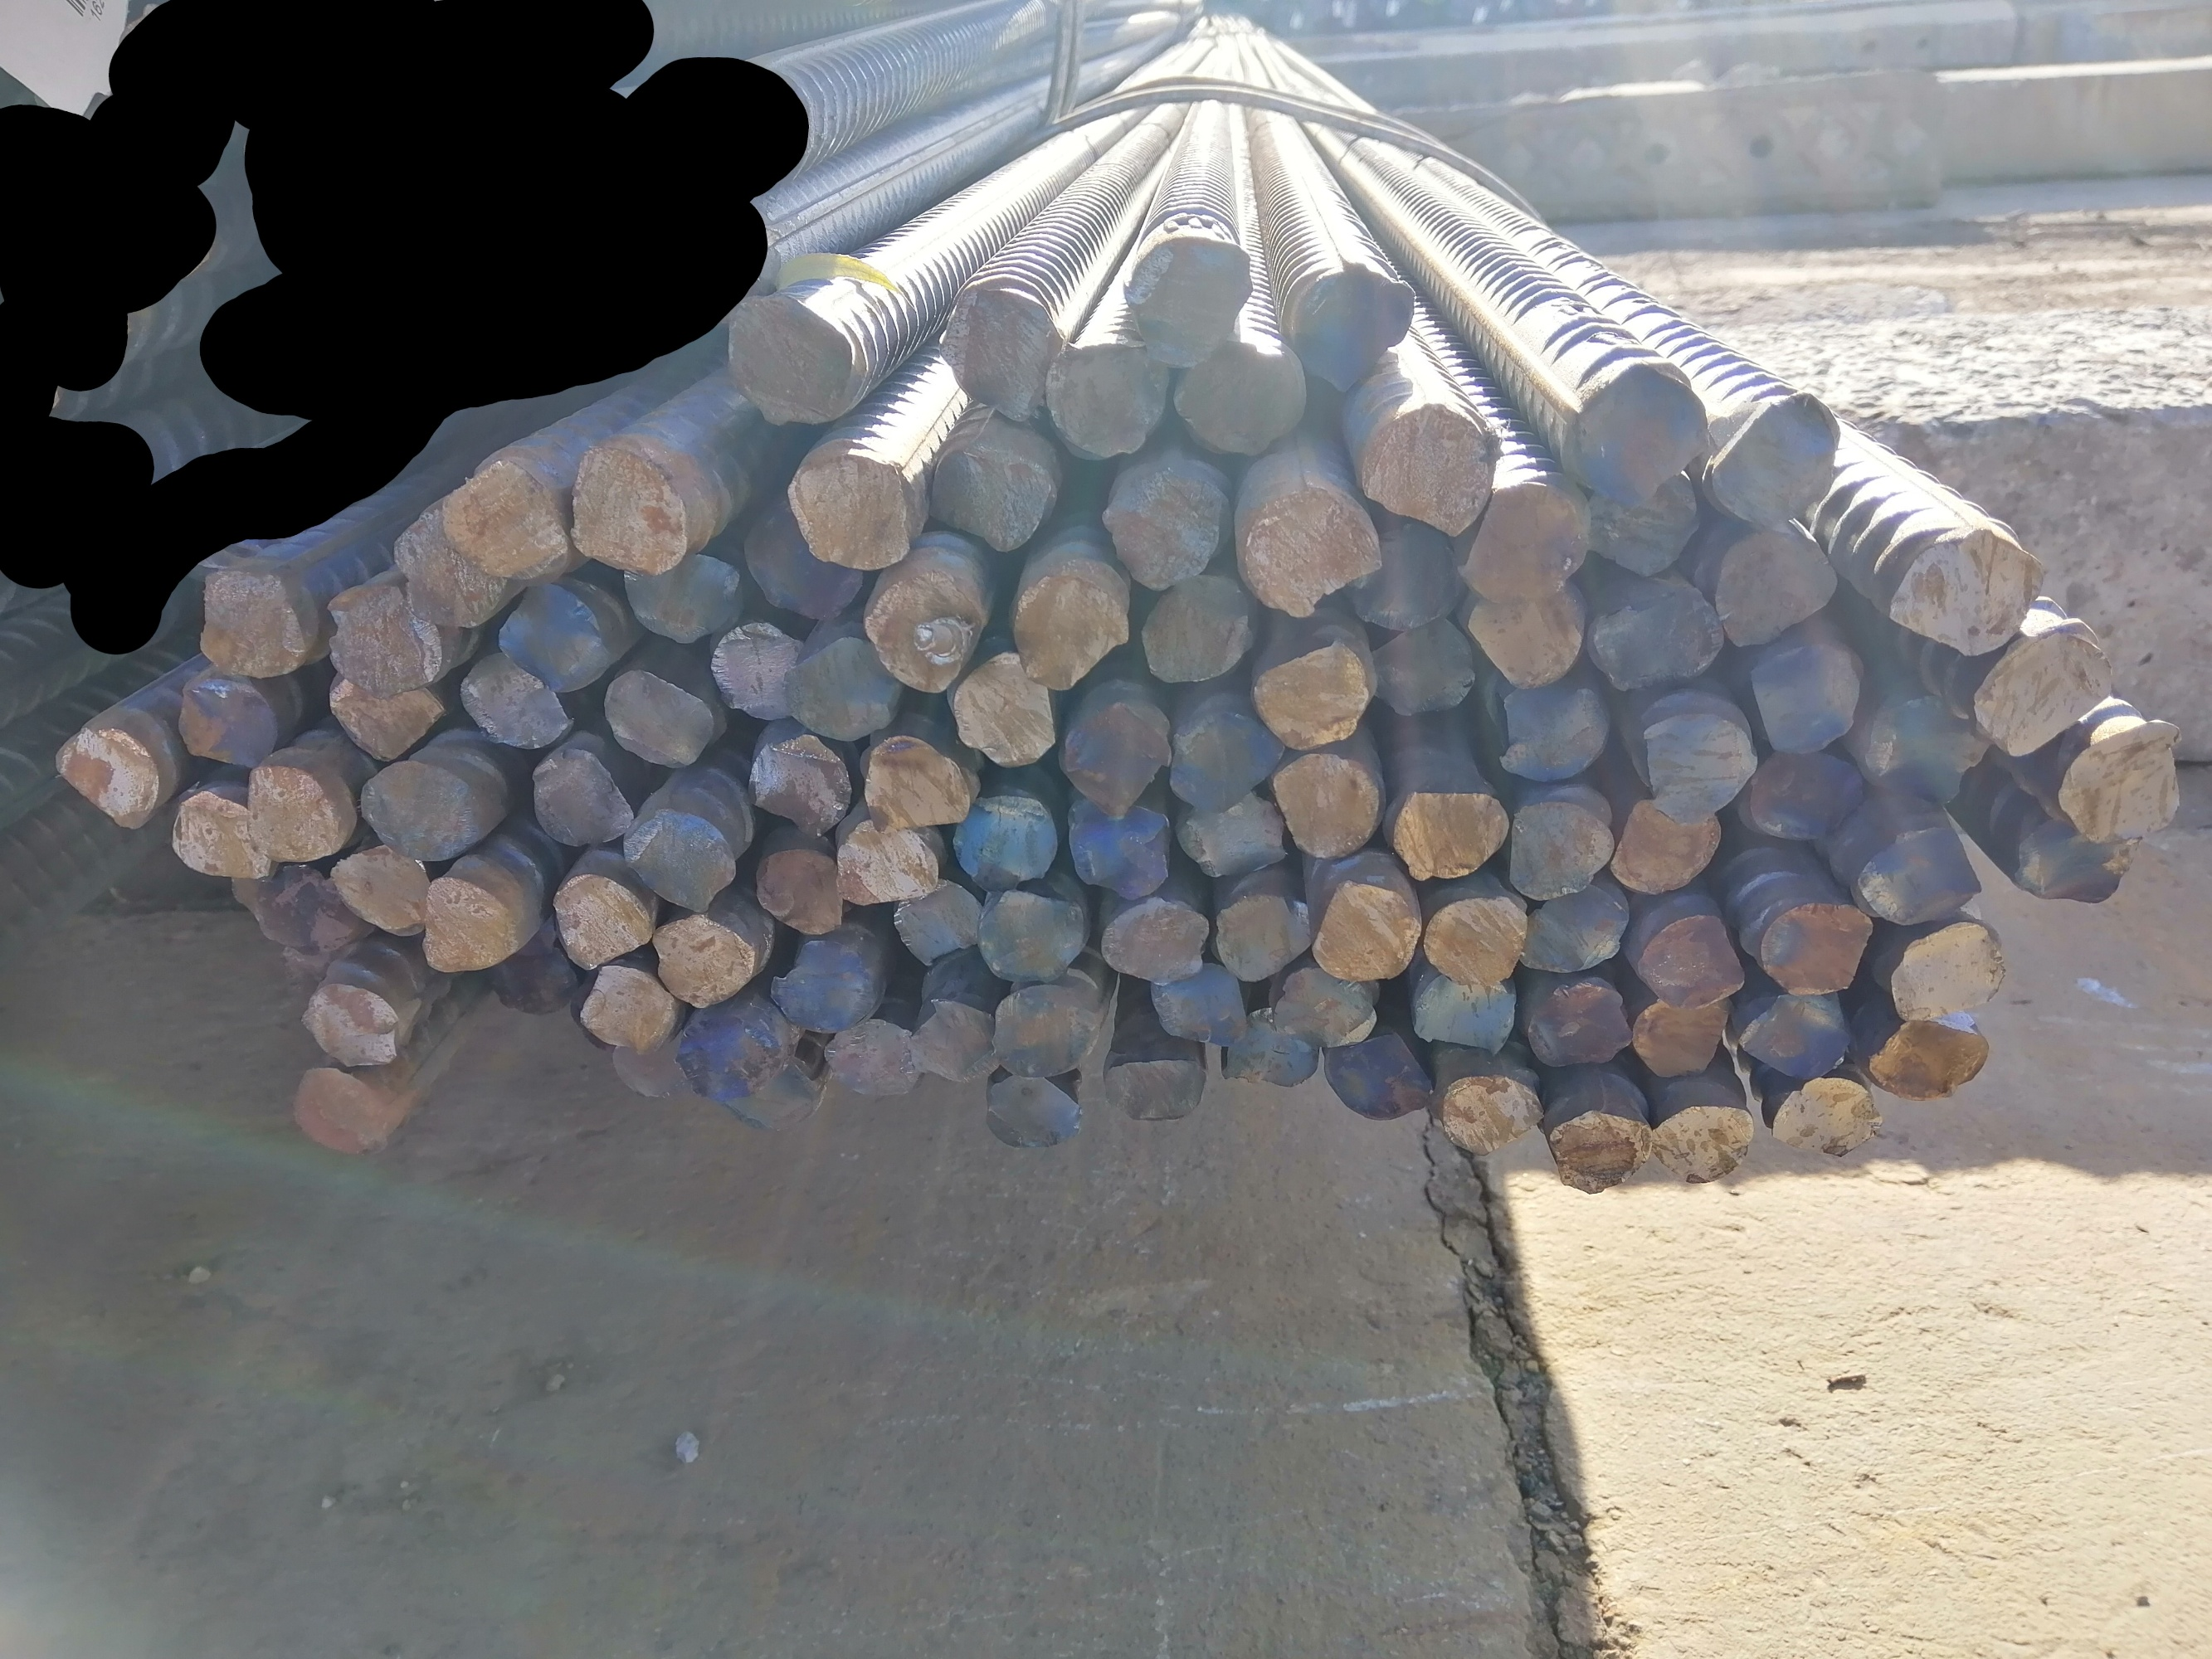rebar: (1564, 356, 1717, 511), (1886, 523, 2045, 660), (1701, 389, 1842, 528), (1239, 483, 1381, 620), (1971, 633, 2114, 763), (1579, 566, 1729, 690), (1360, 397, 1492, 537), (727, 289, 856, 432), (1123, 234, 1255, 369), (934, 286, 1062, 427), (1166, 338, 1311, 462), (441, 458, 573, 591), (1713, 516, 1844, 650), (861, 565, 992, 695), (1290, 263, 1415, 399), (783, 444, 917, 570), (2048, 718, 2186, 840), (1853, 690, 1998, 805), (739, 497, 865, 629), (572, 444, 690, 577), (390, 505, 507, 638), (1103, 462, 1224, 589), (1578, 462, 1705, 580), (1640, 711, 1761, 831), (326, 577, 444, 699), (1748, 629, 1863, 755), (1046, 340, 1170, 455), (1016, 572, 1131, 694), (1461, 490, 1588, 599), (493, 577, 612, 694), (1853, 828, 1987, 929), (1062, 701, 1175, 819), (1469, 580, 1590, 692), (948, 652, 1063, 767), (1349, 519, 1466, 633), (931, 450, 1055, 556), (195, 565, 307, 681), (1255, 641, 1372, 753), (621, 803, 739, 913), (1272, 749, 1386, 861), (1142, 572, 1259, 680), (1496, 678, 1614, 784), (227, 861, 364, 951), (460, 648, 577, 755), (1166, 713, 1283, 819), (763, 934, 884, 1037), (1745, 746, 1870, 843), (1890, 920, 2012, 1019), (49, 728, 157, 840), (784, 631, 898, 737), (1635, 908, 1748, 1014), (621, 549, 741, 648), (363, 760, 478, 863), (1761, 897, 1876, 1000), (242, 760, 354, 864), (532, 746, 638, 854), (411, 875, 521, 979), (1067, 796, 1175, 901), (605, 667, 715, 770), (1311, 882, 1421, 985), (1389, 788, 1508, 882), (863, 730, 971, 833), (648, 911, 758, 1012), (328, 674, 446, 767), (2017, 816, 2135, 908), (1506, 796, 1611, 901), (1614, 795, 1722, 896), (166, 791, 272, 892), (547, 873, 655, 972), (1372, 617, 1482, 714), (1422, 896, 1532, 993), (1736, 993, 1856, 1082), (831, 816, 941, 911), (1865, 1019, 1992, 1101), (1522, 882, 1632, 976), (1177, 788, 1290, 878), (174, 674, 277, 774), (748, 734, 851, 833), (952, 795, 1056, 892), (1211, 889, 1316, 986), (1544, 1105, 1654, 1197), (676, 1011, 781, 1107), (978, 890, 1084, 985), (715, 615, 807, 723), (1323, 1033, 1436, 1121), (1768, 1075, 1883, 1161), (990, 985, 1091, 1080), (1271, 965, 1384, 1051), (288, 1068, 396, 1157), (1652, 1103, 1761, 1192), (1100, 899, 1210, 986), (333, 843, 431, 941), (1529, 981, 1630, 1073), (579, 962, 682, 1053), (296, 986, 403, 1073), (1407, 974, 1515, 1058), (889, 873, 987, 965), (821, 1014, 924, 1100), (1433, 1077, 1543, 1155), (753, 847, 847, 938), (1149, 962, 1246, 1049), (1635, 993, 1733, 1080), (1217, 1007, 1318, 1091), (722, 1056, 824, 1138), (912, 995, 1004, 1086), (481, 932, 577, 1016), (1100, 1054, 1208, 1126), (987, 1073, 1086, 1147), (610, 1039, 687, 1100)
